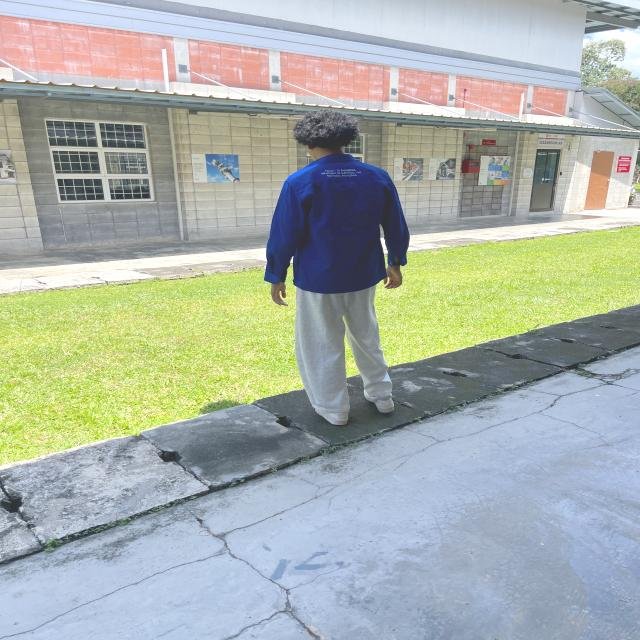person_with_labcoat: (264, 110, 410, 426)
